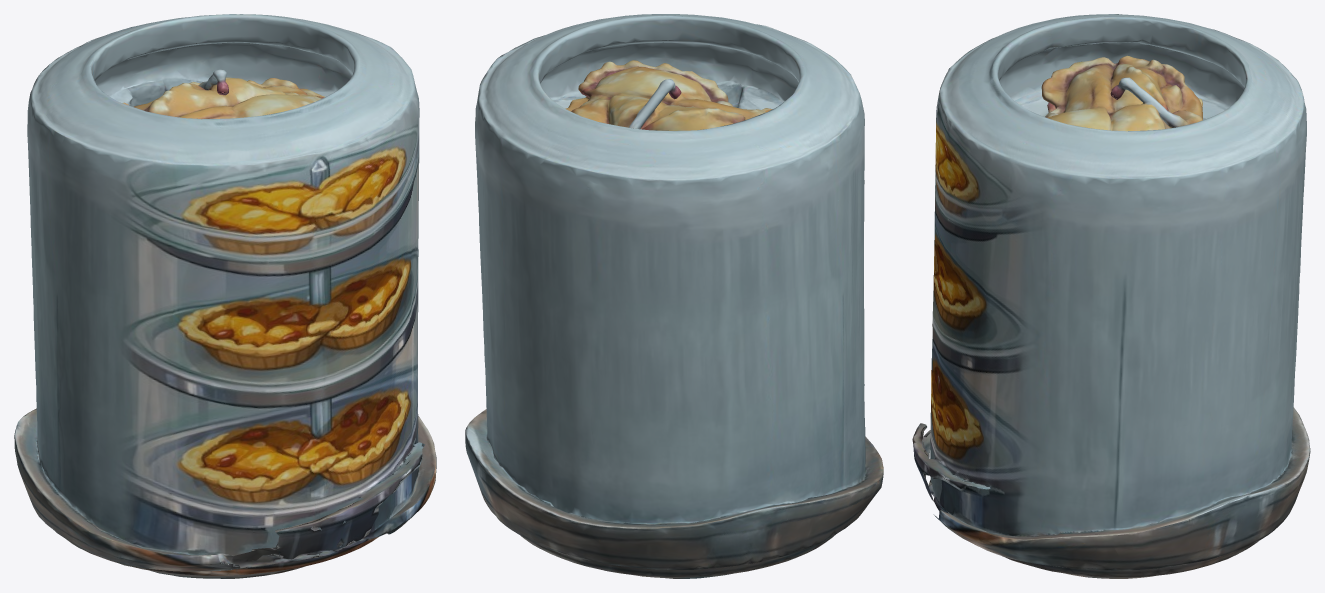
File: piecase.glb
3 views of the same model, side by side, from view 1: azimuth 30°, elevation 25°; view 2: azimuth 150°, elevation 25°; view 3: azimuth 270°, elevation 25° (orthographic).
Parts seen in each view (by area): view 1: piece; view 2: piece; view 3: piece.
Part boxes in pixels (bbox=[...]): piece: bbox=[14, 14, 436, 578]; piece: bbox=[465, 14, 883, 578]; piece: bbox=[912, 14, 1310, 578].
Size of the model in its own units: 0.734 by 0.9 by 0.7.
Materials: 1 (1 with a texture image).
